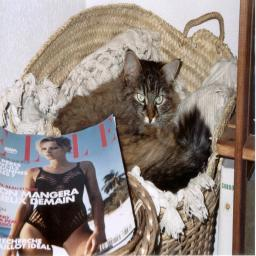catnose: (146, 114, 154, 125)
